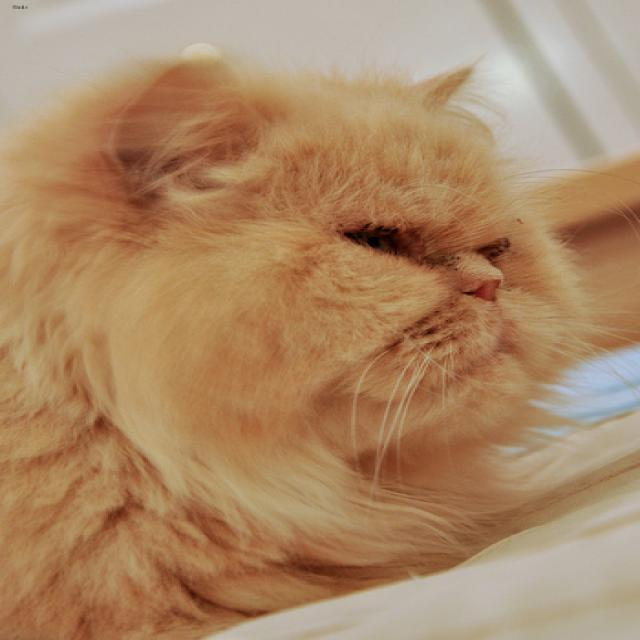Persian: (84, 54, 580, 406)
